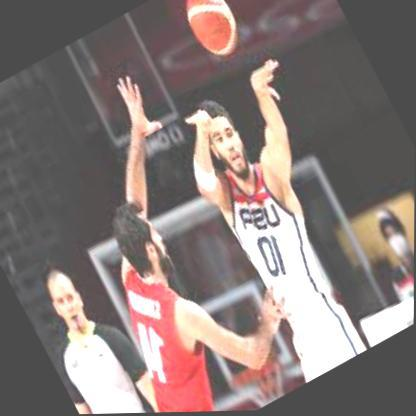basketball: (174, 0, 250, 68)
